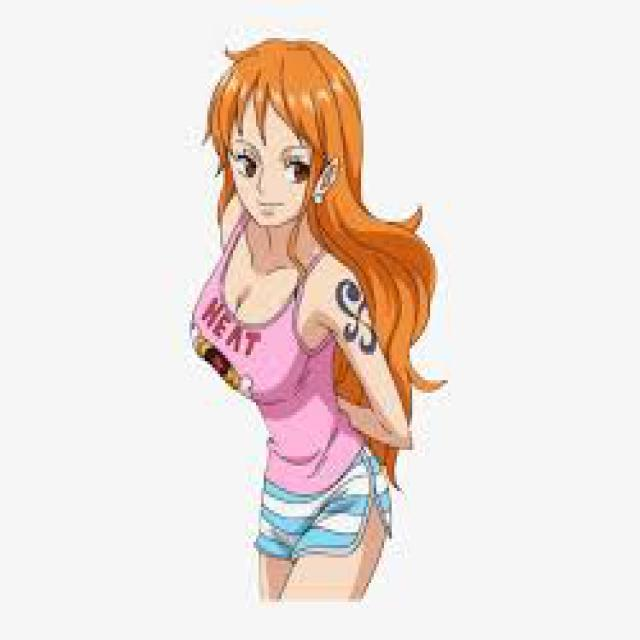Nami: (192, 38, 438, 602)
